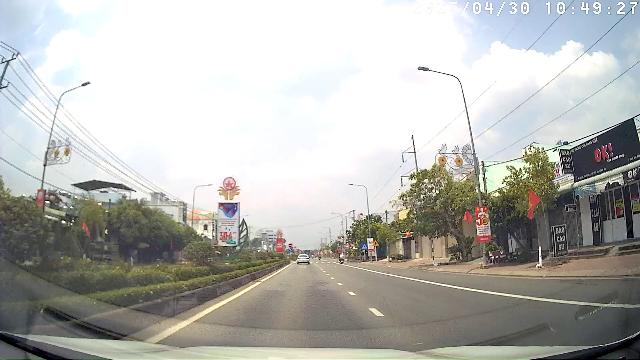423a-duong-nguoi-di-bo-sang-ngang-1: (361, 243, 368, 250)
